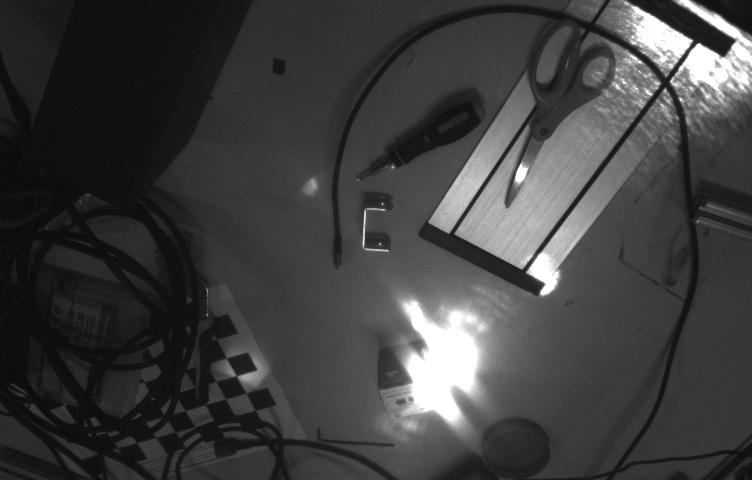Object screw packaging box - Material cardboard - Pdfname VgpKnmoKJfrS: (391, 343, 454, 429)
